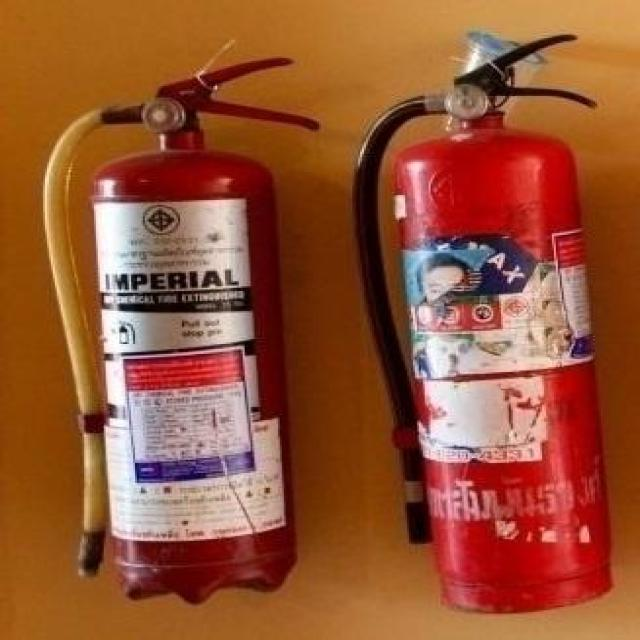fire_extinguisher: (350, 27, 613, 616), (39, 58, 319, 602)
